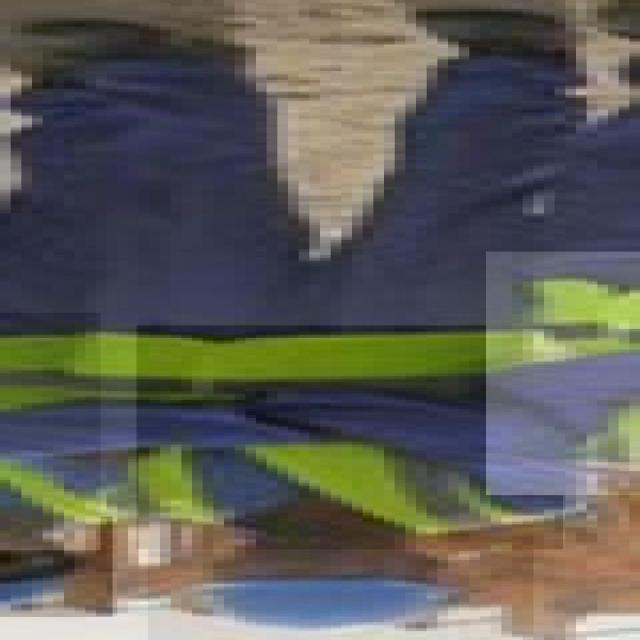Helmet: (148, 528, 534, 640), (0, 516, 112, 616)
Safety Vest: (137, 326, 563, 550), (486, 252, 640, 495), (0, 312, 100, 550)
